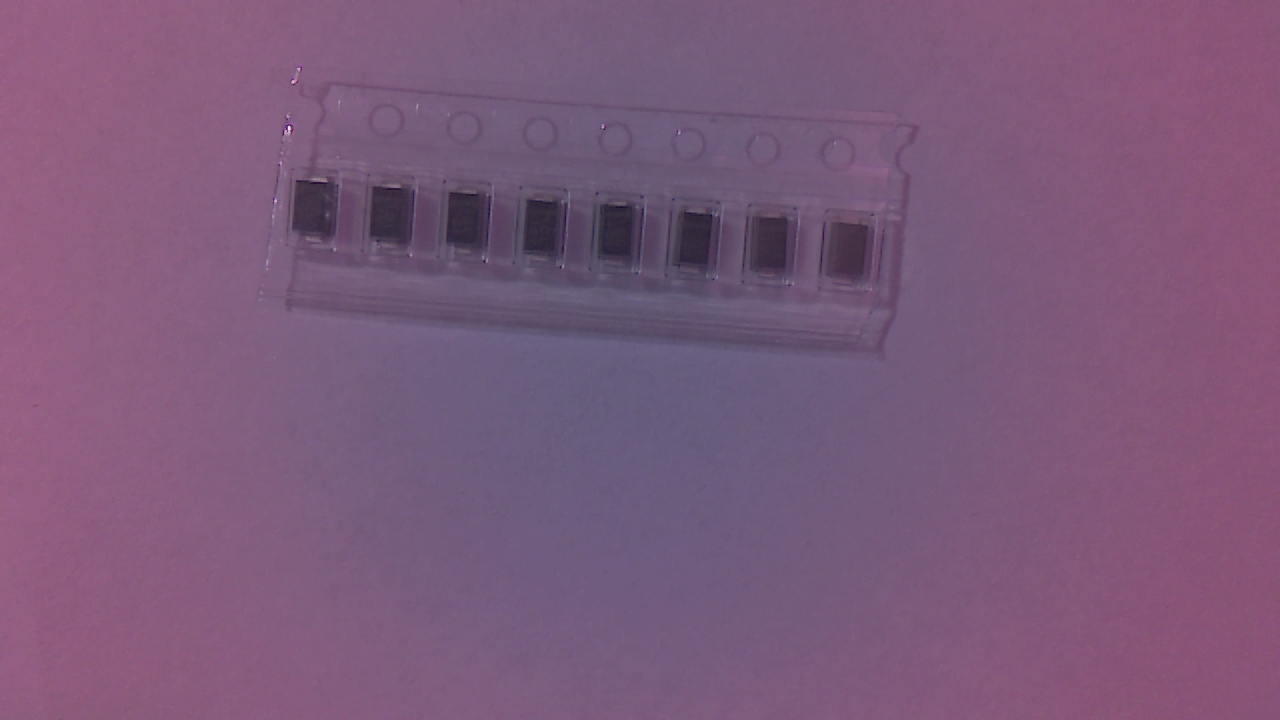Diode: (675, 207, 720, 286), (830, 217, 876, 293), (601, 200, 646, 276), (373, 184, 419, 258), (450, 188, 493, 266), (526, 193, 570, 269), (755, 213, 796, 288), (298, 179, 342, 248)
